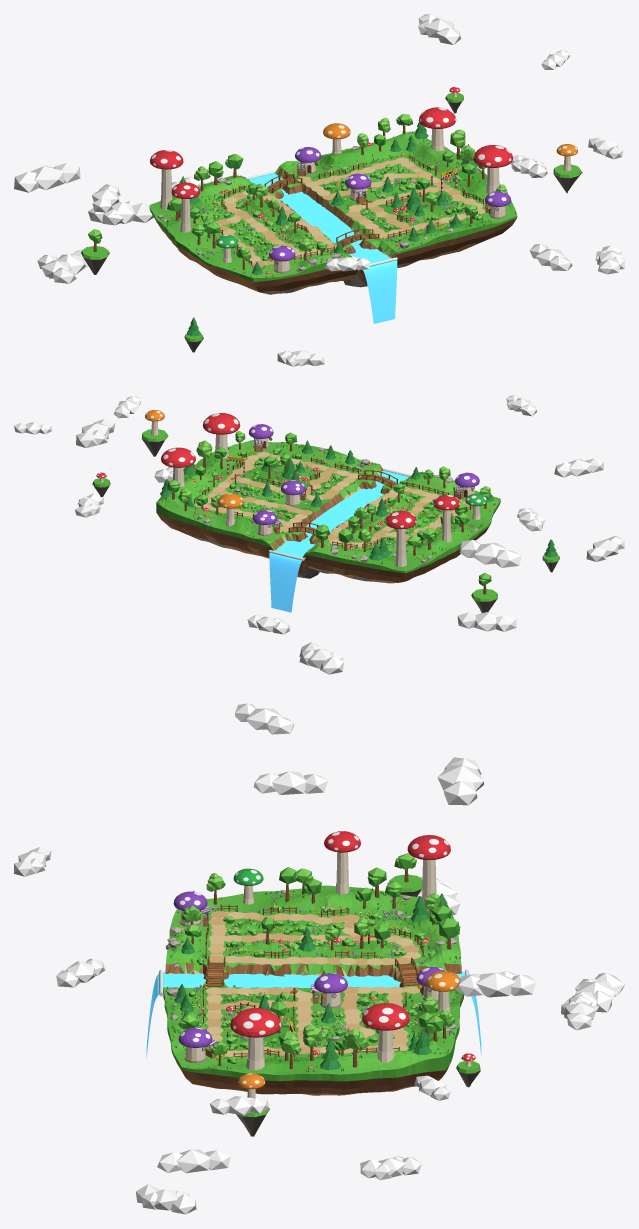
Rendered from board-main.glb.
The picture shows the model from 3 angles, top to bottom: view 1: azimuth 30°, elevation 25°; view 2: azimuth 150°, elevation 25°; view 3: azimuth 270°, elevation 25°; orthographic projection. The views are drawn at different scales.
Visible parts, largest first — view 1: Terrain, Paths, Cliff, River, WaterfallBottom, Cloud.004, Cloud.003, Mushroom Giant Red, Mushroom Tall Red, Mushroom Giant Red.001, Cloud.011, Mushroom Tall Red.001 (+14 smaller); view 2: Terrain, Cliff, Paths, River, WaterfallTop, Cloud.004, Cloud.003, Cloud.007, Mushroom Giant Red, Mushroom Tall Red, Cloud.011, Mushroom Giant Red.001 (+15 smaller); view 3: Terrain, Paths, Cliff, River, Mushroom Giant Red, Cloud.011, Cloud.004, Mushroom Giant Red.001, Mushroom Tall Red, Cloud.006, Cloud.010, Cloud.002 (+12 smaller).
Boxes of the visible parts, bbox=[...] form: Terrain: bbox=[149, 131, 516, 278]; Paths: bbox=[215, 157, 485, 266]; Cliff: bbox=[149, 206, 517, 294]; River: bbox=[249, 173, 390, 263]; WaterfallBottom: bbox=[363, 260, 397, 323]; Cloud.004: bbox=[14, 163, 80, 192]; Cloud.003: bbox=[88, 201, 153, 225]; Mushroom Giant Red: bbox=[473, 145, 512, 193]; Mushroom Tall Red: bbox=[150, 150, 183, 209]; Mushroom Giant Red.001: bbox=[419, 107, 456, 151]; Cloud.011: bbox=[418, 14, 461, 44]; Mushroom Tall Red.001: bbox=[171, 182, 199, 232]; Terrain: bbox=[156, 440, 500, 571]; Cliff: bbox=[156, 499, 500, 583]; Paths: bbox=[195, 452, 472, 547]; River: bbox=[275, 471, 408, 558]; WaterfallTop: bbox=[269, 553, 301, 612]; Cloud.004: bbox=[460, 540, 521, 567]; Cloud.003: bbox=[299, 642, 343, 674]; Cloud.007: bbox=[457, 612, 516, 631]; Mushroom Giant Red: bbox=[202, 413, 240, 458]; Mushroom Tall Red: bbox=[385, 510, 416, 566]; Cloud.011: bbox=[76, 419, 115, 448]; Mushroom Giant Red.001: bbox=[161, 447, 195, 486]; Terrain: bbox=[163, 885, 462, 1075]; Paths: bbox=[205, 911, 420, 1057]; Cliff: bbox=[163, 931, 463, 1095]; River: bbox=[163, 972, 464, 994]; Mushroom Giant Red: bbox=[230, 1008, 281, 1070]; Cloud.011: bbox=[455, 971, 535, 997]; Cloud.004: bbox=[437, 757, 483, 805]; Mushroom Giant Red.001: bbox=[362, 1003, 409, 1062]; Mushroom Tall Red: bbox=[407, 835, 450, 910]; Cloud.006: bbox=[253, 771, 327, 794]; Cloud.010: bbox=[157, 1149, 230, 1173]; Cloud.002: bbox=[136, 1184, 196, 1214].
Size of the model in its own units: 83.51 by 21.96 by 59.16.
